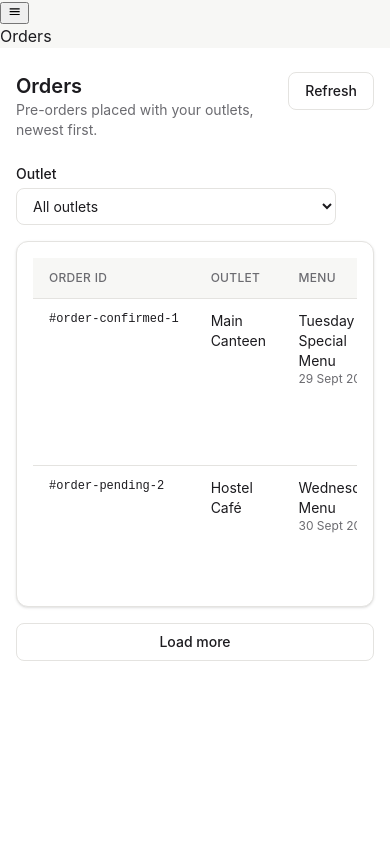
OrganizationOrdersPage › pagination › when access is lost while the page is open (Load more is refused with a 403) › replaces the visible orders with the access-denied state: no stale rows, cursor or Load more remain
Expected: the text "#order-confirmed-1" is shown, [33,299,195,466]
Expected: the text "#order-pending-2" is shown, [33,466,195,590]
// Load more returns 403.
Click the button "Load more": (195,642) [16,623,374,661]
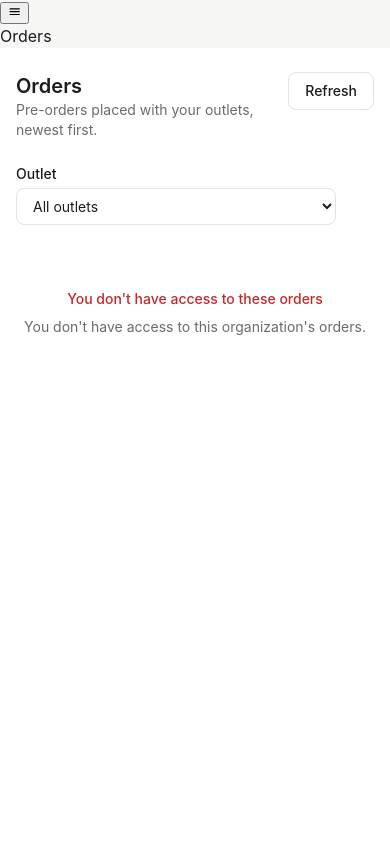
Expected: the message shows "You don't have access to these orders", [67,290,323,307]
Expected: the message shows "You don't have access to this organization's orders.", [24,318,366,335]
Expected: the table is gone
